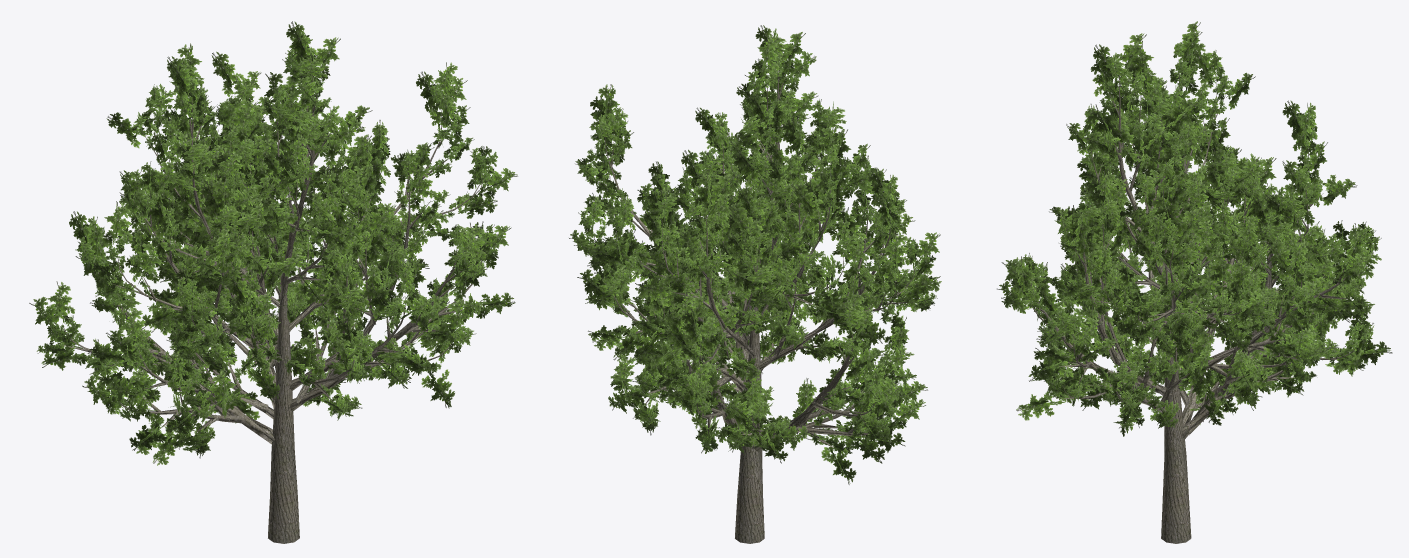
File: oak-large-lod1-20m.glb
3 views of the same model, side by side, from view 1: azimuth 30°, elevation 25°; view 2: azimuth 150°, elevation 25°; view 3: azimuth 270°, elevation 25° (orthographic). The views are drawn at different scales.
Visible parts, largest first — view 1: Oak Large LOD1 (scaled to 20m); view 2: Oak Large LOD1 (scaled to 20m); view 3: Oak Large LOD1 (scaled to 20m).
Boxes of the visible parts, <box> form: Oak Large LOD1 (scaled to 20m): <box>29,21,517,543</box>; Oak Large LOD1 (scaled to 20m): <box>569,25,941,543</box>; Oak Large LOD1 (scaled to 20m): <box>997,21,1392,543</box>.
Size of the model in its own units: 17.03 by 20.38 by 14.74.
Materials: 2 (2 with a texture image).
